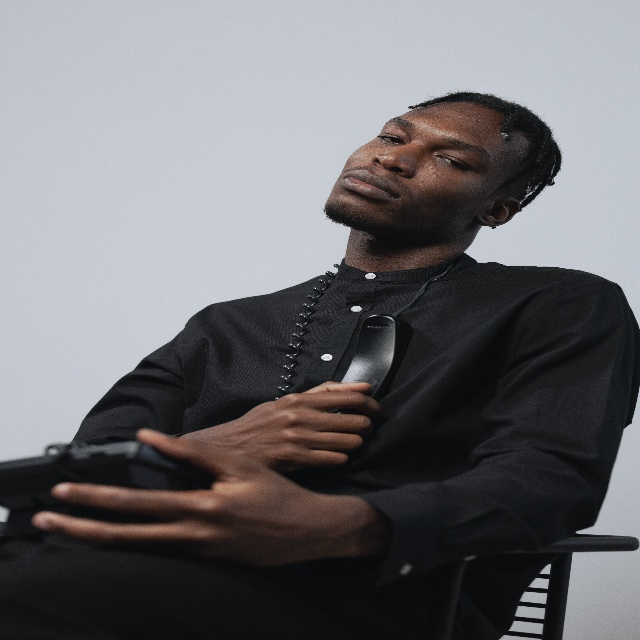Sin_guantes: (31, 427, 306, 569), (232, 382, 382, 474)
